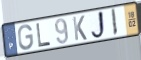9: (54, 18, 70, 46)
G: (17, 24, 35, 52)
I: (110, 8, 119, 38)
J: (90, 10, 108, 40)
K: (72, 14, 88, 42)
L: (35, 22, 52, 49)
